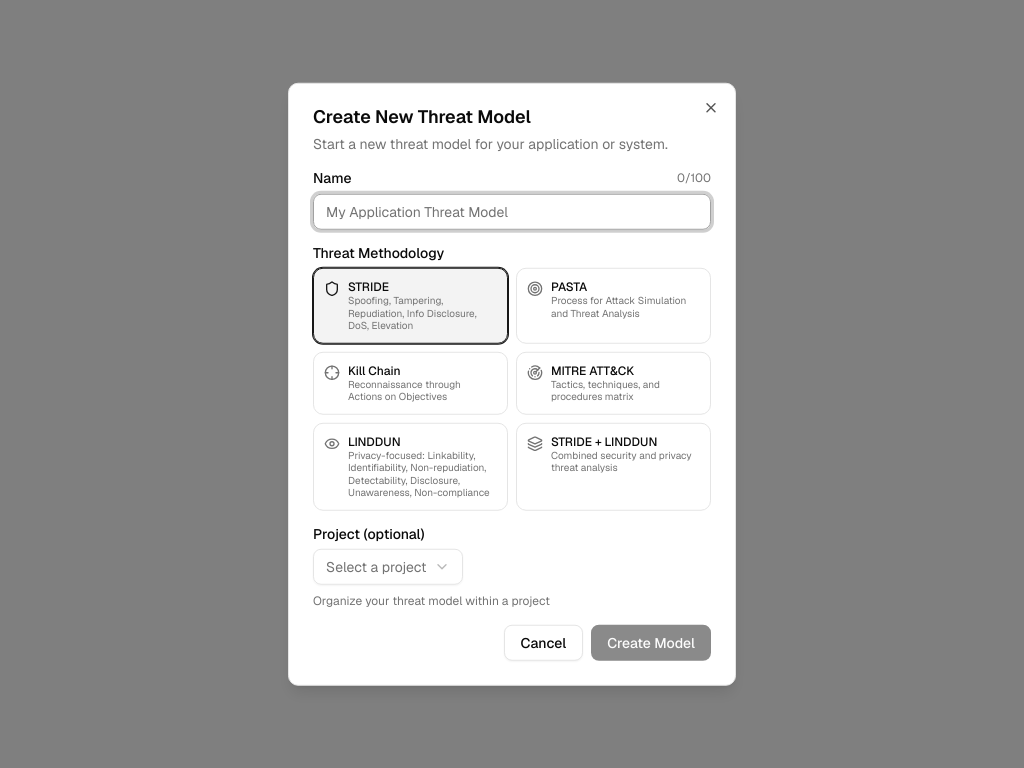
it: CreateModelDialog › shows character counter
Expected: the text "0/100" is shown, [677,170,711,186]
In the field with placeholder "My Application Threat Model": (512, 212) [313,194,711,230], type "Test"
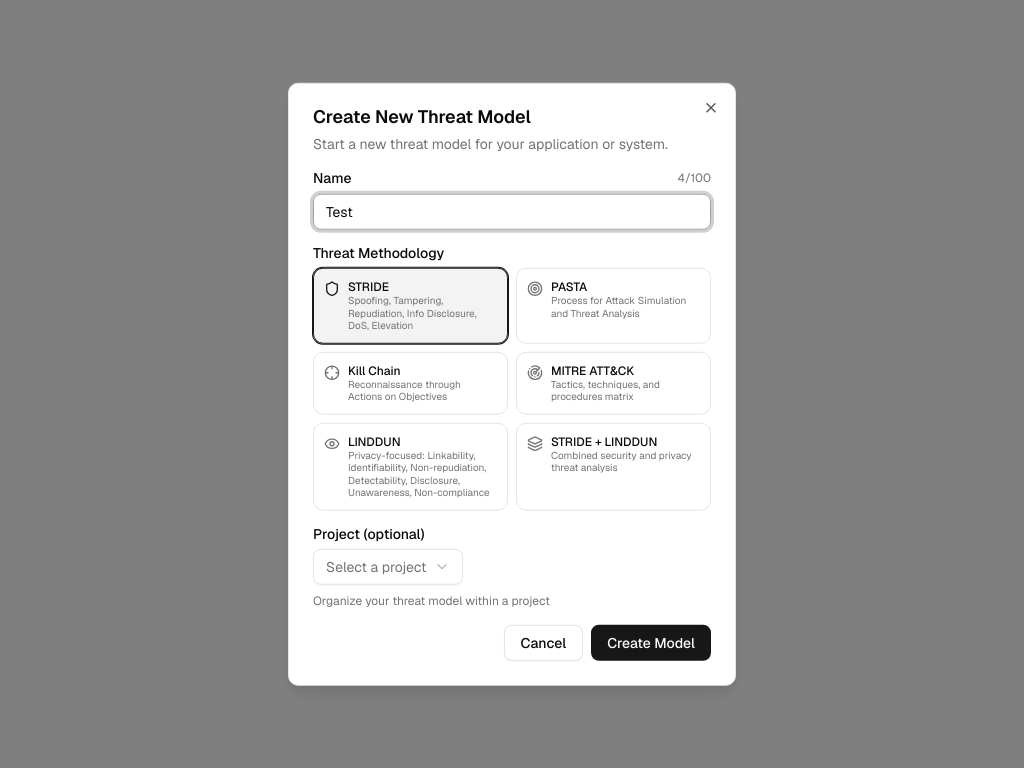
Result: the text "4/100" is shown at [678,170,711,186]
